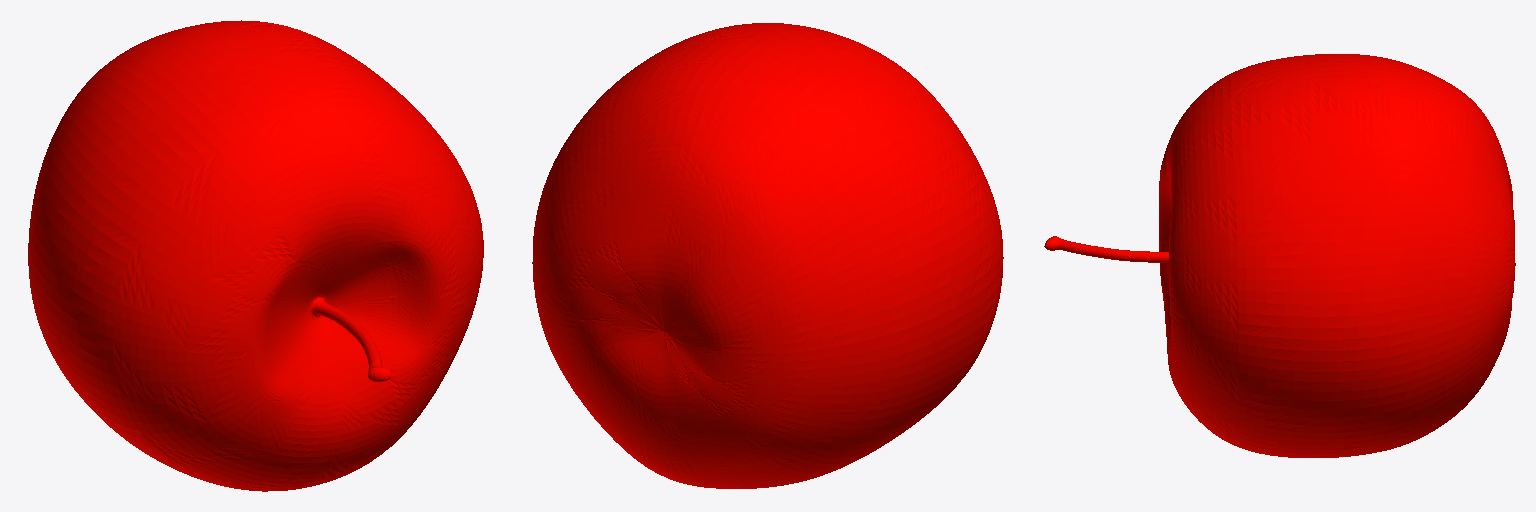
robot.urdf — apple:
<?xml version="1.0" encoding="utf-8"?>
<robot name="apple">
  <link name="base_link">
    <contact>
      <lateral_friction value="0.5"/>
      <rolling_friction value="0.0"/>
      <contact_cfm value="0.0"/>
      <contact_erp value="1.0"/>
    </contact>
    <inertial>
      <origin rpy="0 0 0" xyz="0 0 0"/>
      <mass value="5"/>
      <inertia ixx="0" ixy="0" ixz="0" iyy="0" iyz="0" izz="0"/>
    </inertial>
    <visual>
      <origin rpy="1.57 0 0" xyz="0 0 0"/>
      <geometry>
        <mesh filename="models/meshes/apple/10162_Apple_v01_l3.obj" scale="0.0007 0.0007 0.0007"/>
      </geometry>
      <material name="tray_material">
        <color rgba="1 0.03 0 1"/>
      </material>
    </visual>
    <collision>
      <origin rpy="1.57 0 0" xyz="0 0 0"/>
      <geometry>
        <mesh filename="models/meshes/apple/10162_Apple_v01_l3.obj" scale="0.0006 0.0007 0.0007"/>
      </geometry>
    </collision>
  </link>
</robot>

--- Facts derived from the render (not from the file) ---
The picture shows the robot from 3 angles, left to right: view 1: azimuth 30°, elevation 25°; view 2: azimuth 150°, elevation 25°; view 3: azimuth 270°, elevation 25°; orthographic projection.
Model apple with 1 links and 0 joints (none), rooted at base_link, posed all joints at 0.
Links seen in each view (by area): view 1: base_link; view 2: base_link; view 3: base_link.
Link boxes in pixels (box(x1,y1,x2,y2)): base_link: box(28, 20, 483, 491); base_link: box(532, 23, 1003, 488); base_link: box(1044, 54, 1515, 457).
Bounding box of the posed robot: 0.1139 × 0.1327 × 0.1142 m (x, y, z).
Meshes: 1 distinct files referenced, 1 mesh visuals loaded (1 OBJ).